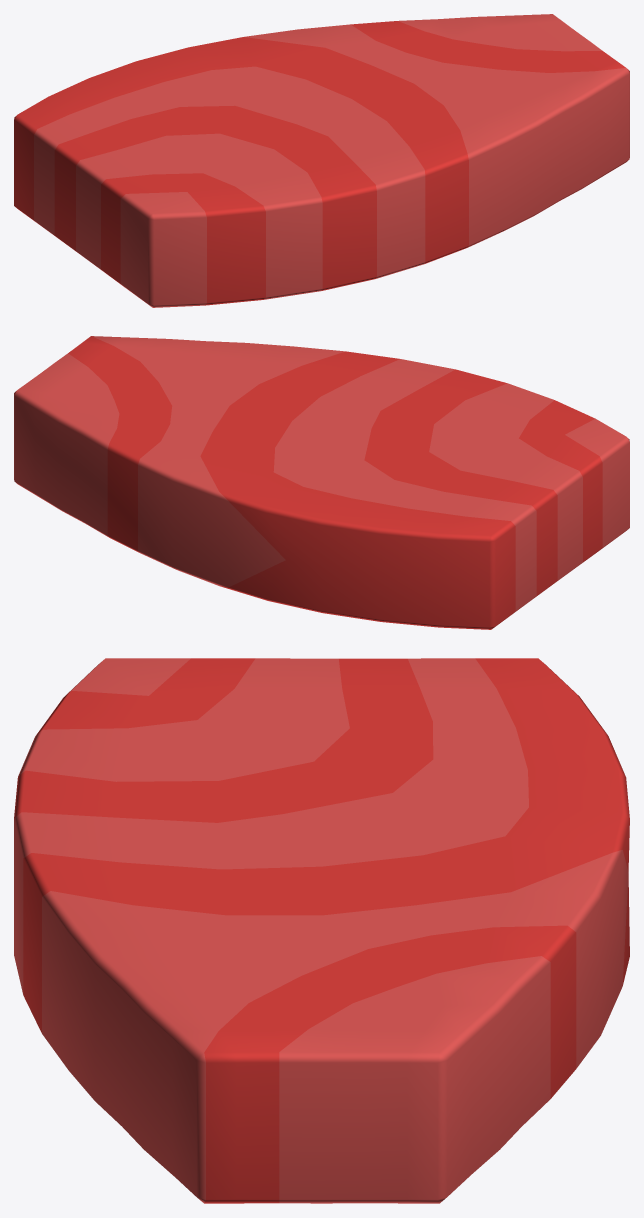
Rendered from Tuna_1_Fillet_2.fbx.
3 views of the same model, one above another, from view 1: azimuth 30°, elevation 25°; view 2: azimuth 150°, elevation 25°; view 3: azimuth 270°, elevation 25° (orthographic). The views are drawn at different scales.
Visible parts, largest first — view 1: Tuna_1_Fillet_2; view 2: Tuna_1_Fillet_2; view 3: Tuna_1_Fillet_2.
Part boxes in pixels (x1,y1,x2,y2): Tuna_1_Fillet_2: (14,14,629,307); Tuna_1_Fillet_2: (14,336,629,629); Tuna_1_Fillet_2: (14,658,629,1203).
Bounding box in the file's own units: 68.22 × 12 × 44.34.
